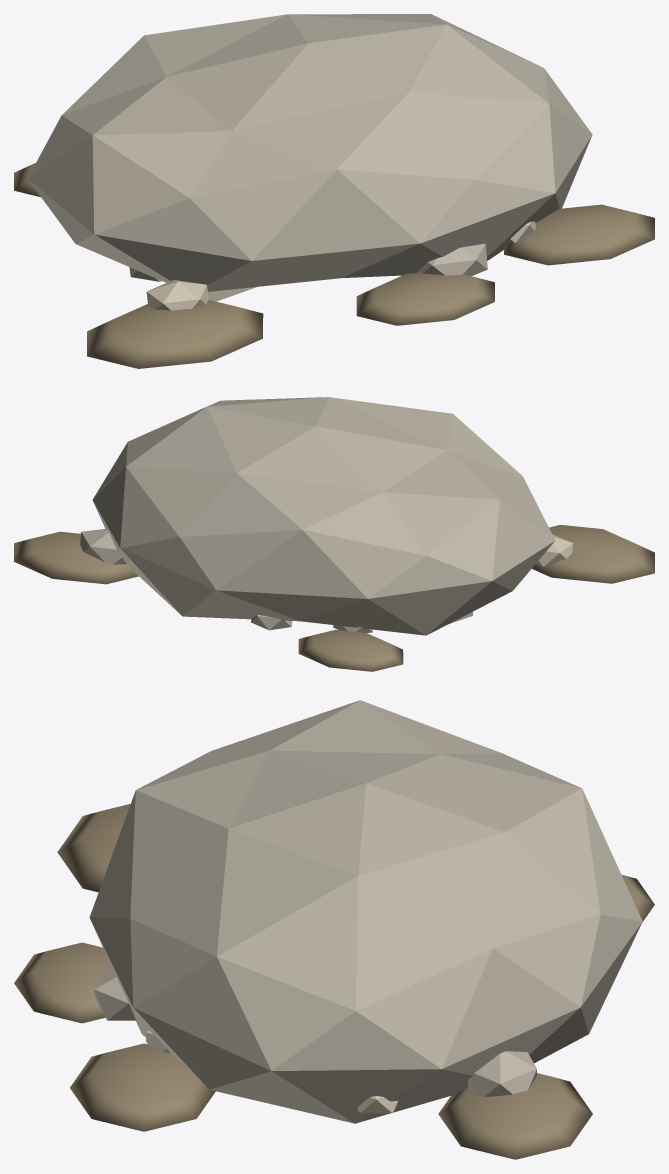
The model's file is ruin_debris_pile.glb.
3 views of the same model, one above another, from view 1: azimuth 30°, elevation 25°; view 2: azimuth 150°, elevation 25°; view 3: azimuth 270°, elevation 25° (orthographic). The views are drawn at different scales.
Visible parts, largest first — view 1: Debris_Pile; view 2: Debris_Pile; view 3: Debris_Pile.
Part boxes in pixels (<box>): Debris_Pile: <box>14,14,654,368</box>; Debris_Pile: <box>14,397,654,671</box>; Debris_Pile: <box>14,700,654,1159</box>.
Size of the model in its own units: 2.74 by 0.7571 by 2.07.
